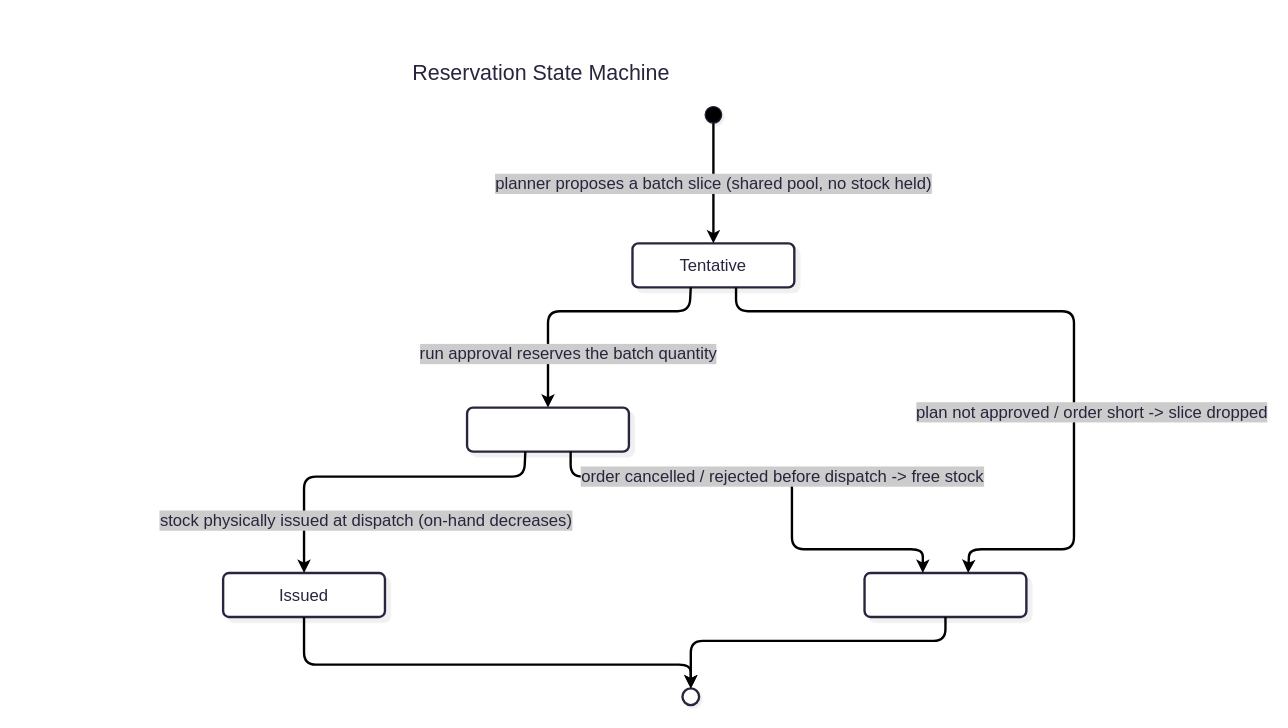
Some shapes in this 1288 by 728 pixel diagram are drawn without their labels. The shapes that lost their labels are listed below. From the top down, each one's centre as x and y in pixels, then its label:
At pixel 549 431: "Reserved".
At pixel 947 596: "Released".
